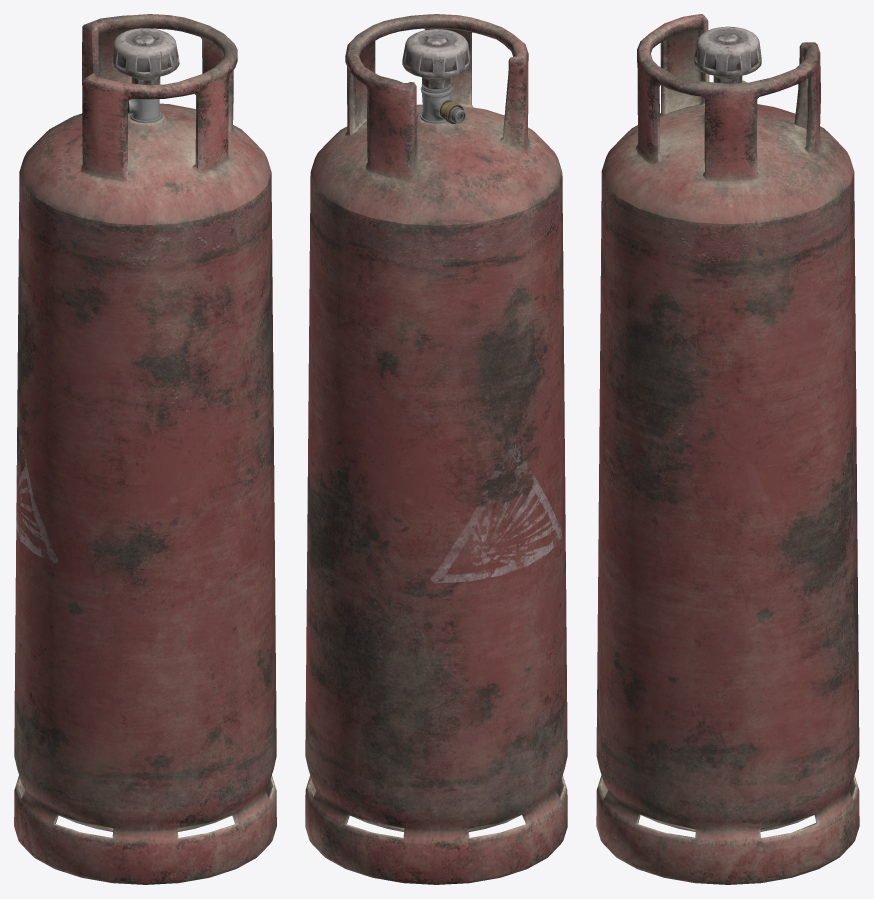
File: SM_Gas_Cylinder.fbx
3 views of the same model, side by side, from view 1: azimuth 30°, elevation 25°; view 2: azimuth 150°, elevation 25°; view 3: azimuth 270°, elevation 25° (orthographic).
Parts seen in each view (by area): view 1: SM_Gas_Cylinder_LOD0; view 2: SM_Gas_Cylinder_LOD0; view 3: SM_Gas_Cylinder_LOD0.
Part boxes in pixels (bbox=[...]): SM_Gas_Cylinder_LOD0: bbox=[14, 14, 276, 884]; SM_Gas_Cylinder_LOD0: bbox=[305, 14, 567, 884]; SM_Gas_Cylinder_LOD0: bbox=[596, 14, 859, 884].
Bounding box in the file's own units: 34.02 × 34.02 × 113.
